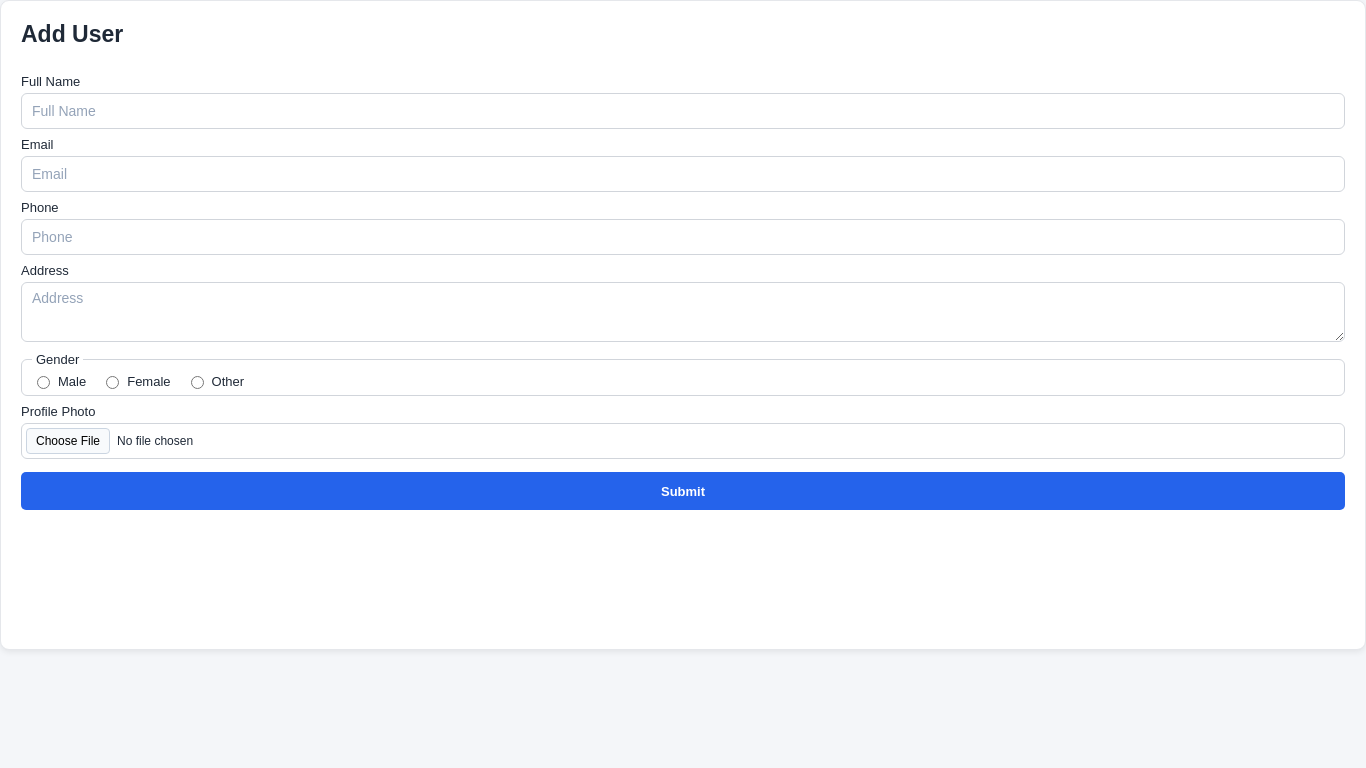
Test: UserForm › shows a validation message when the name is empty
Type "test@example.com" into the field with placeholder "Email" at [683, 174], box top-left (21, 156), bottom-right (1345, 192)
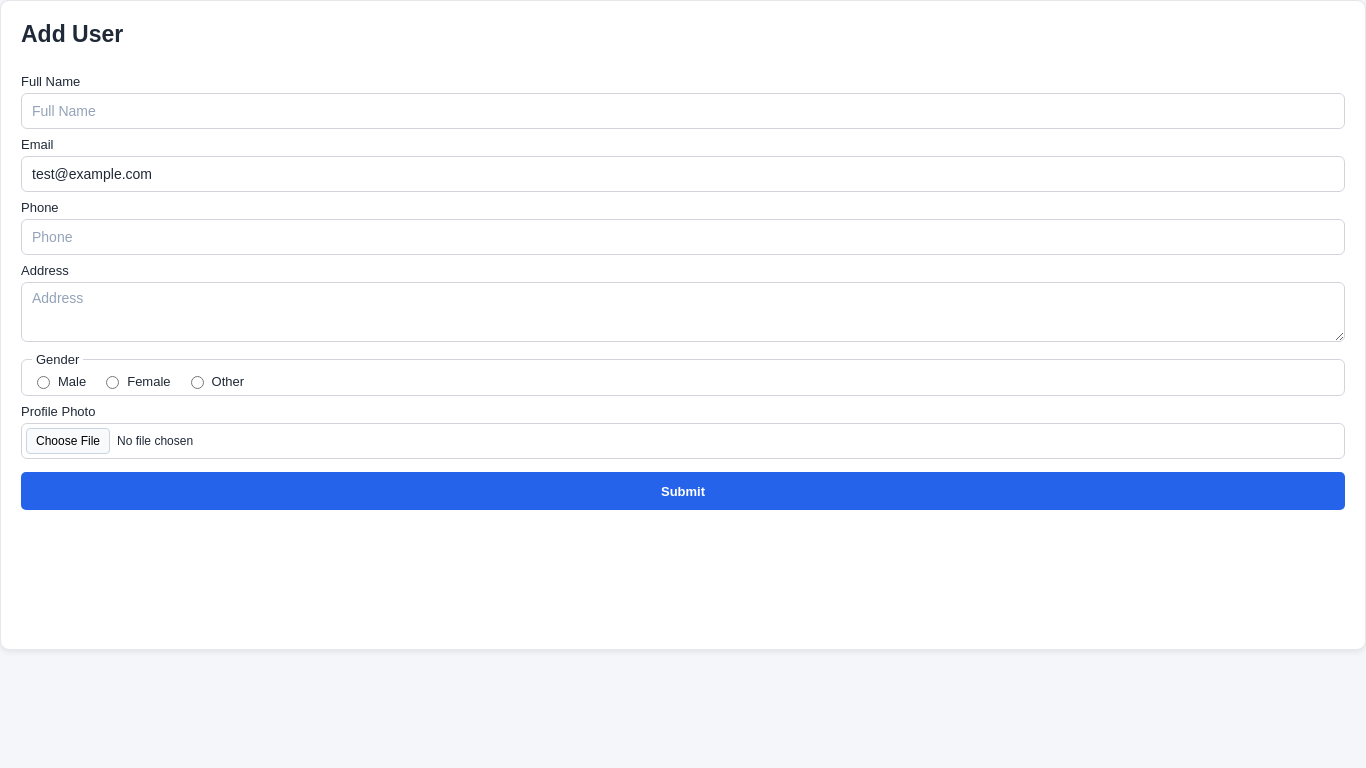
Type "1234567890" into the field with placeholder "Phone" at [683, 237], box top-left (21, 219), bottom-right (1345, 255)
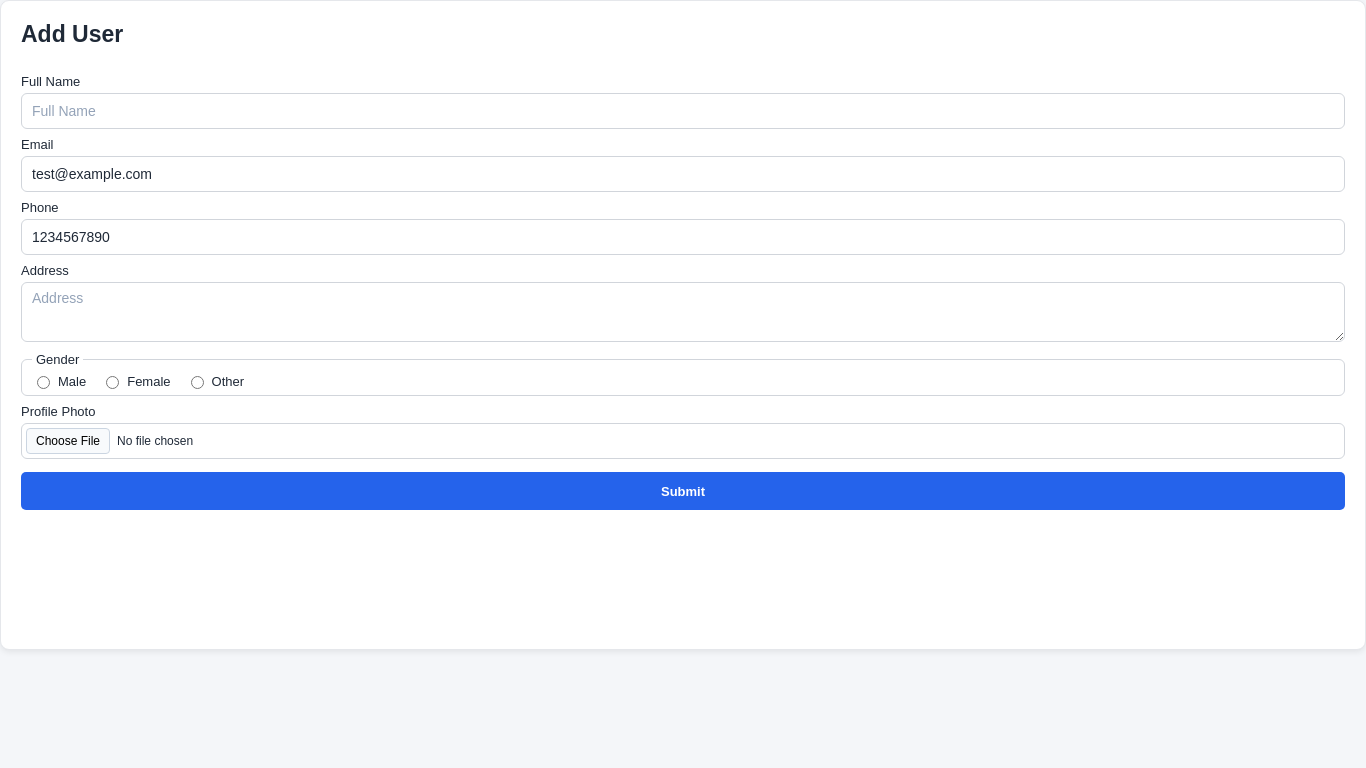
Type "Hyderabad" into the text box labelled "Address" at [683, 312], box top-left (21, 282), bottom-right (1345, 342)
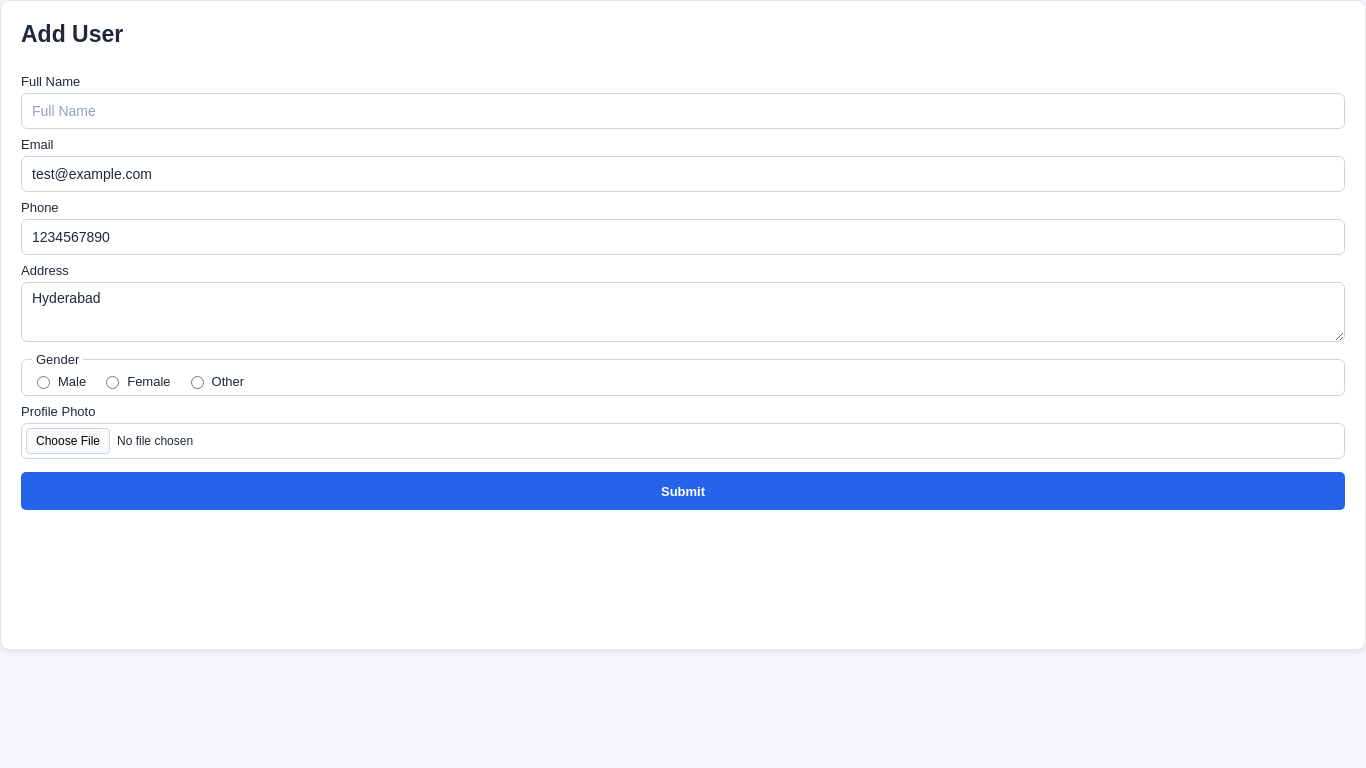
Click the radio button labelled "Male" at [44, 382], box top-left (37, 376), bottom-right (50, 389)
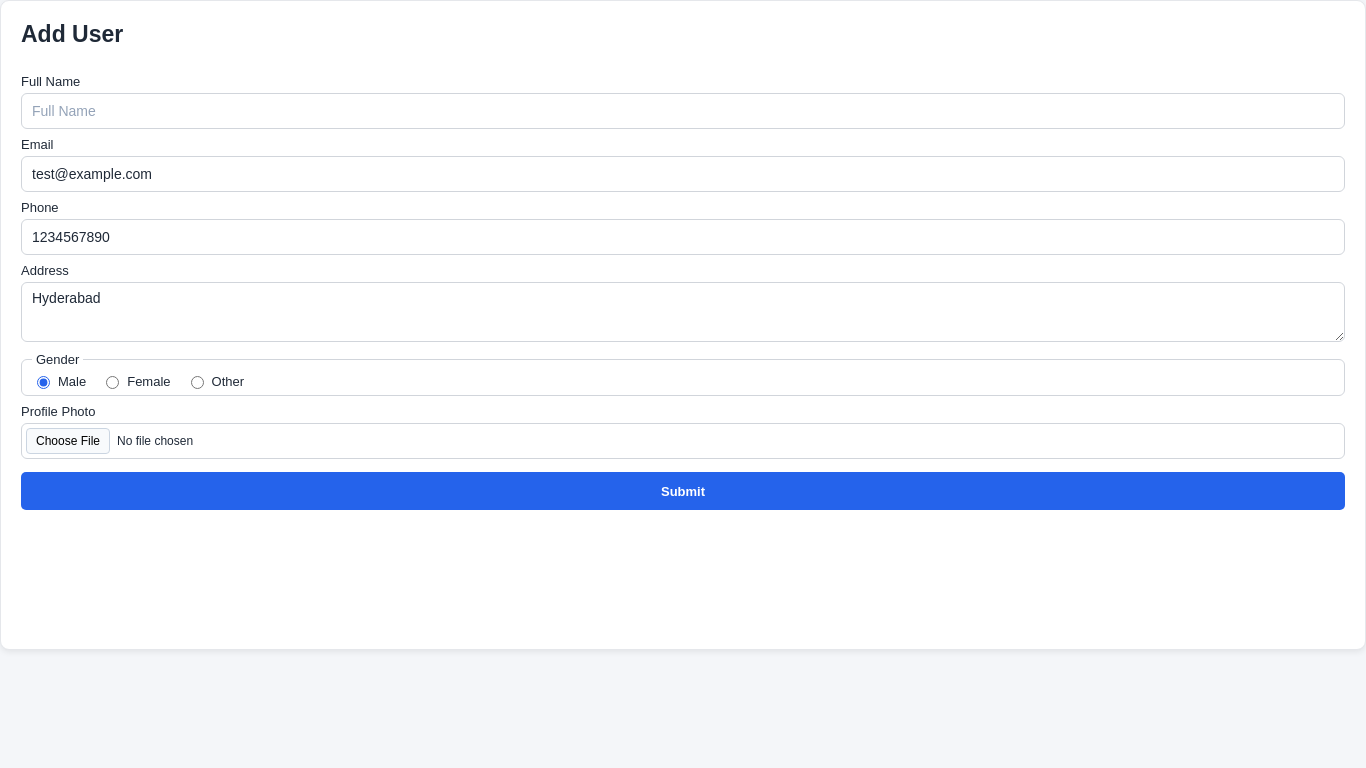
Submit the form "Add User"
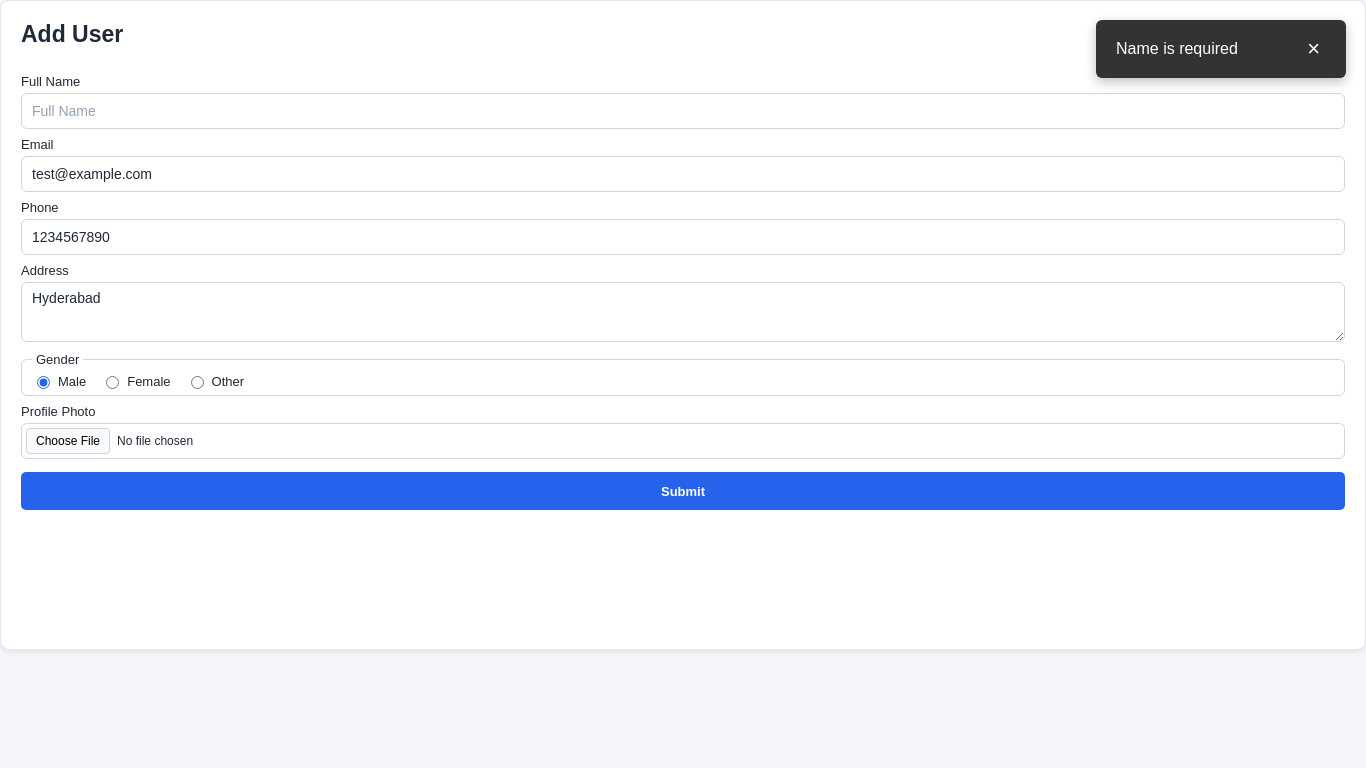
Check: the text "Name is required" is shown, box top-left (1116, 40), bottom-right (1238, 58)
